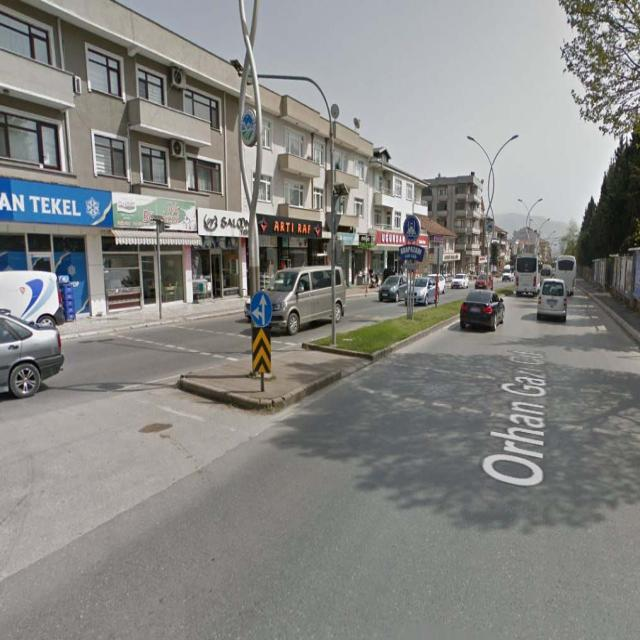ilerisol: (250, 292, 272, 327)
